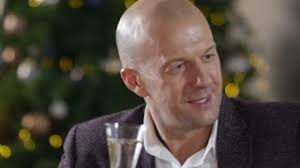white_male: (127, 1, 226, 124)
